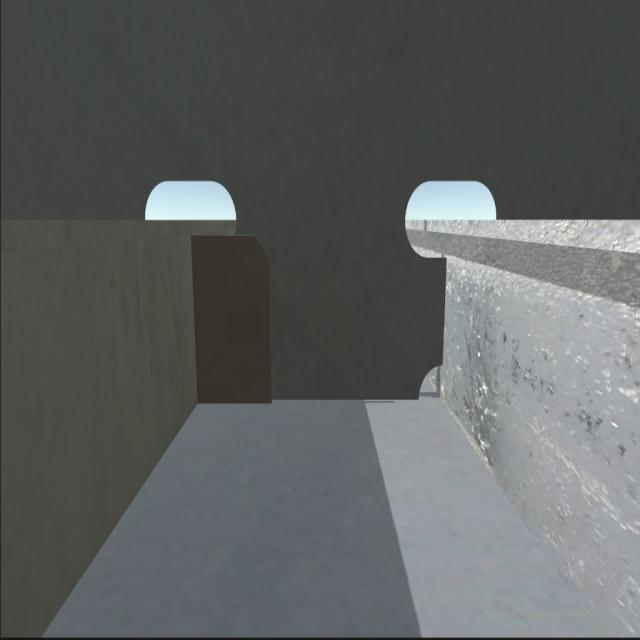fillet_hole: (408, 350, 446, 404)
fillet_yong_jeop_jang: (194, 386, 418, 412)
longi_yong_jeop_jang: (184, 219, 211, 401), (434, 248, 450, 370)
plate_CP03: (188, 229, 274, 401), (328, 503, 329, 504)
